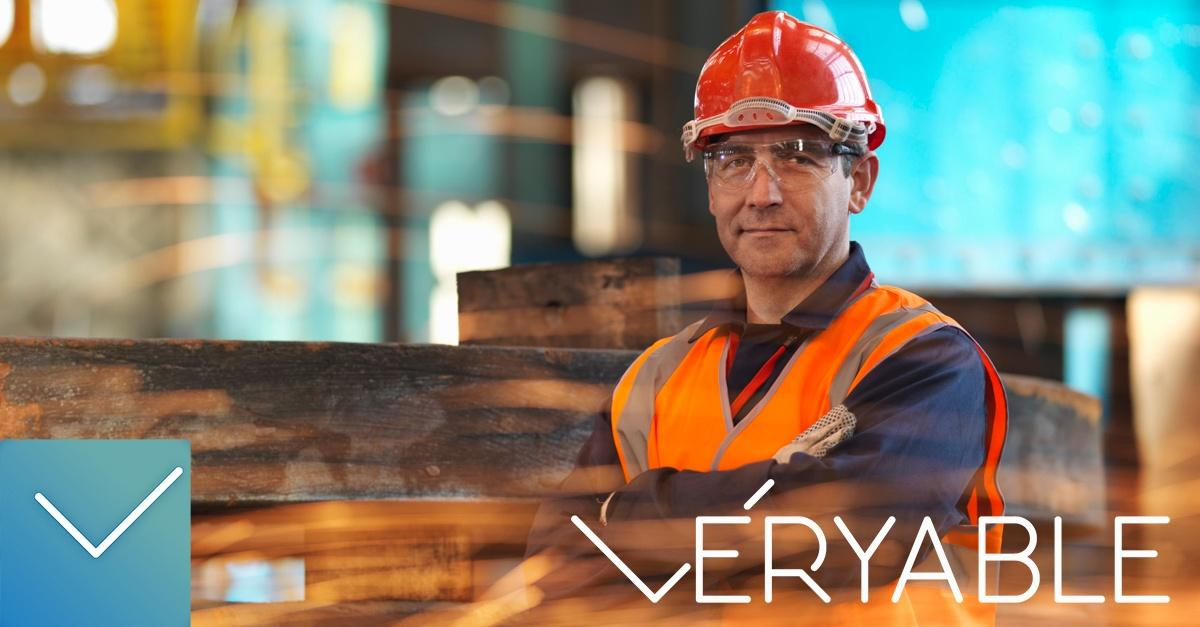helmet: (688, 10, 888, 152)
